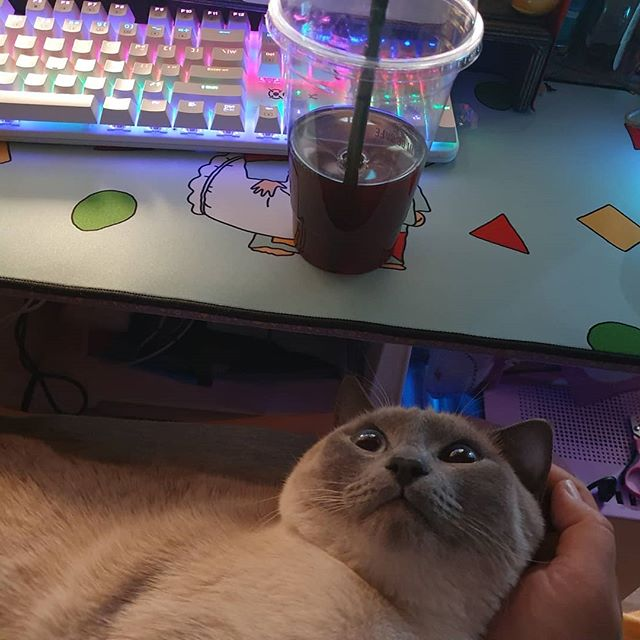cat: (283, 363, 556, 636)
